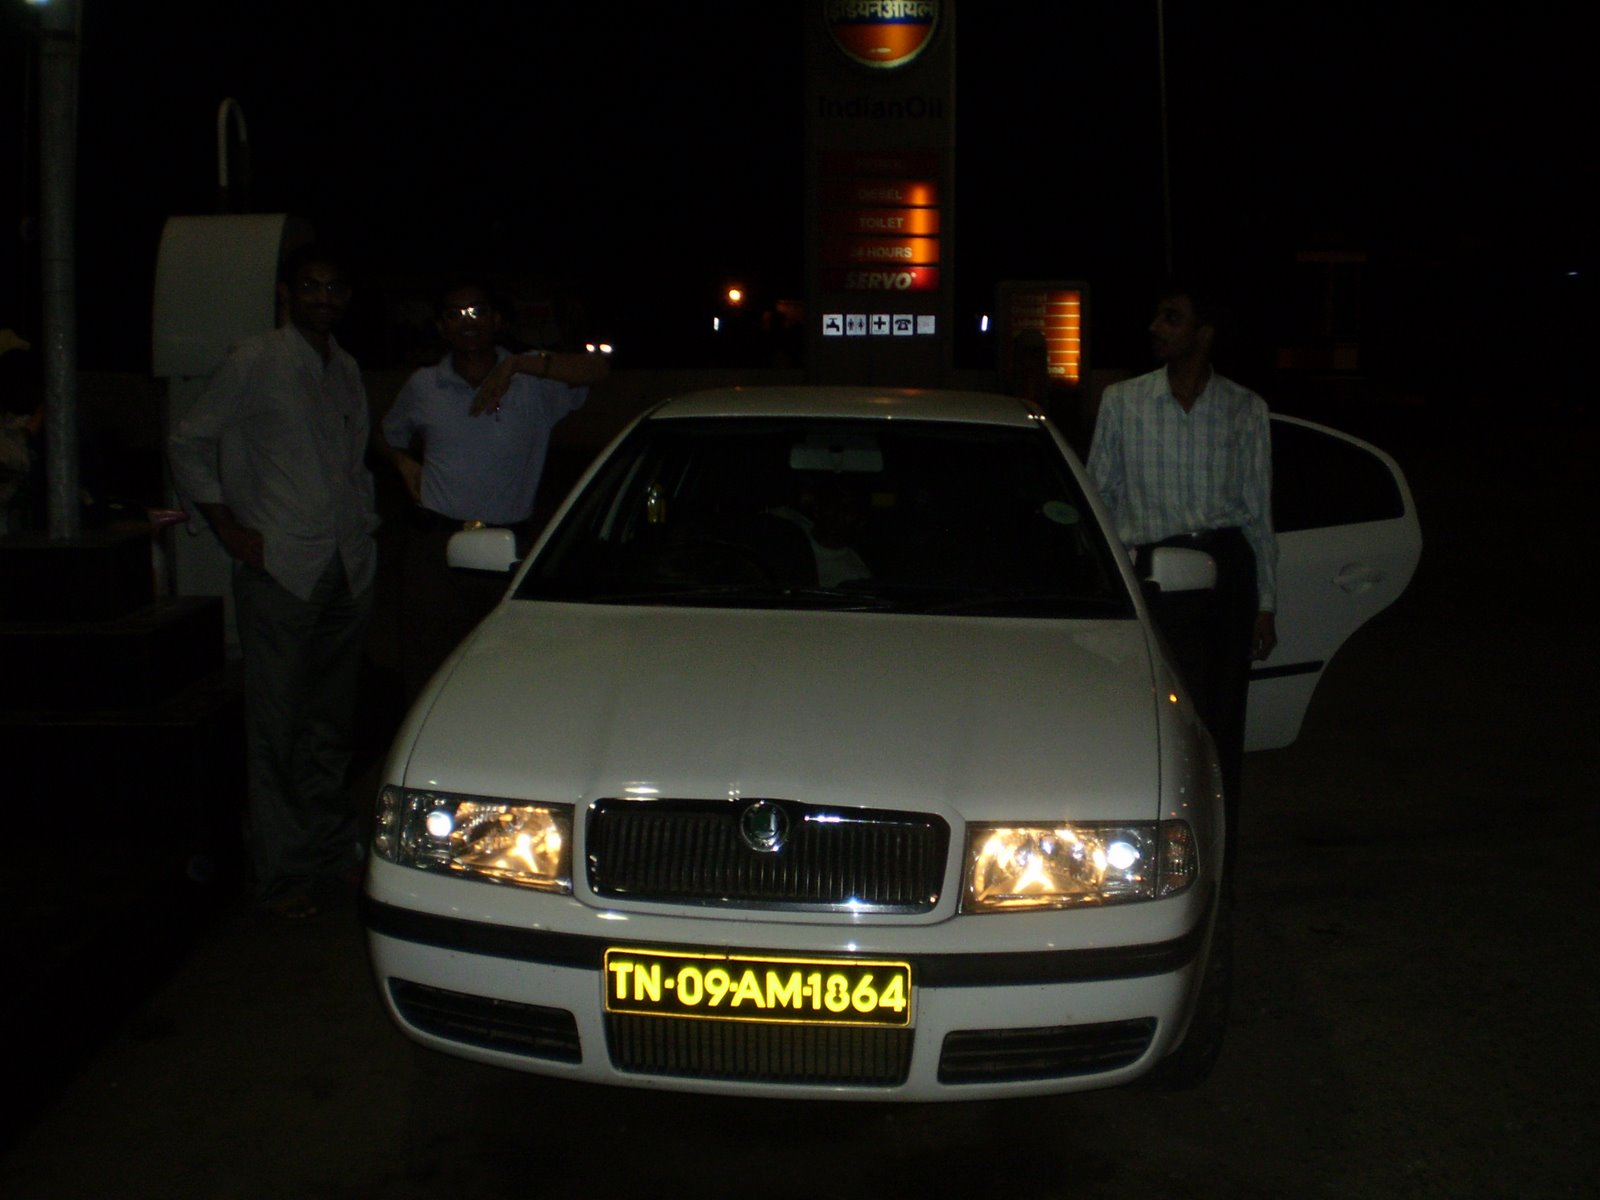car: (386, 395, 1196, 1116)
